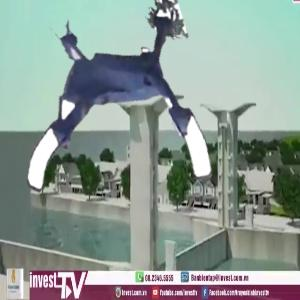drone: (7, 8, 208, 209)
